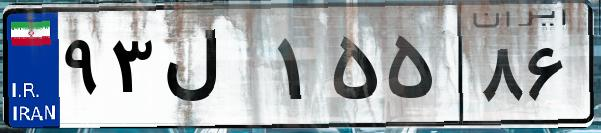1: (270, 28, 330, 110)
3: (110, 28, 158, 98)
5: (385, 28, 445, 110), (330, 28, 385, 110)
6: (525, 38, 570, 115)
8: (475, 38, 525, 113)
9: (57, 26, 110, 100)
ل: (158, 20, 270, 120)
